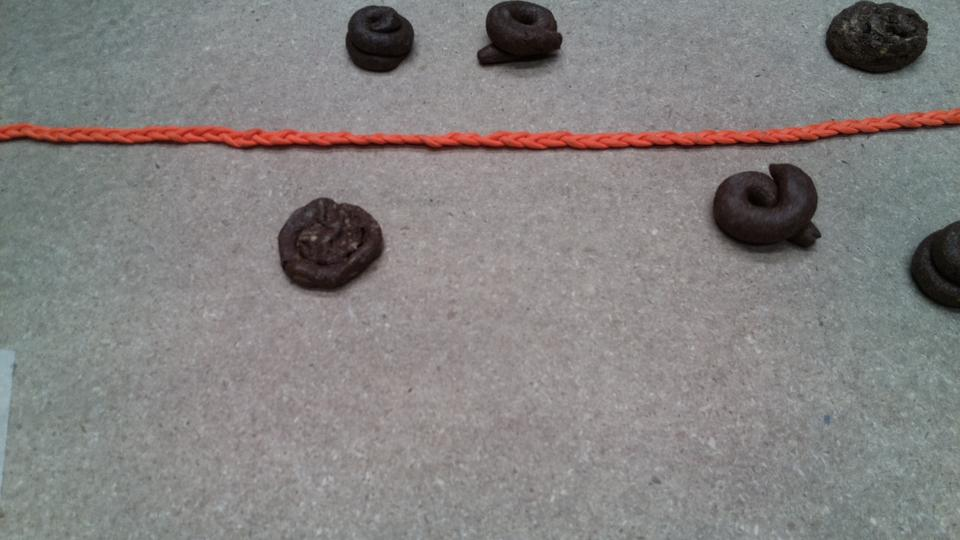poop: (707, 153, 828, 270), (270, 192, 394, 293), (819, 3, 931, 78), (476, 3, 568, 70), (343, 6, 418, 81), (912, 217, 960, 307)
rope: (2, 108, 837, 160), (722, 110, 960, 141)
